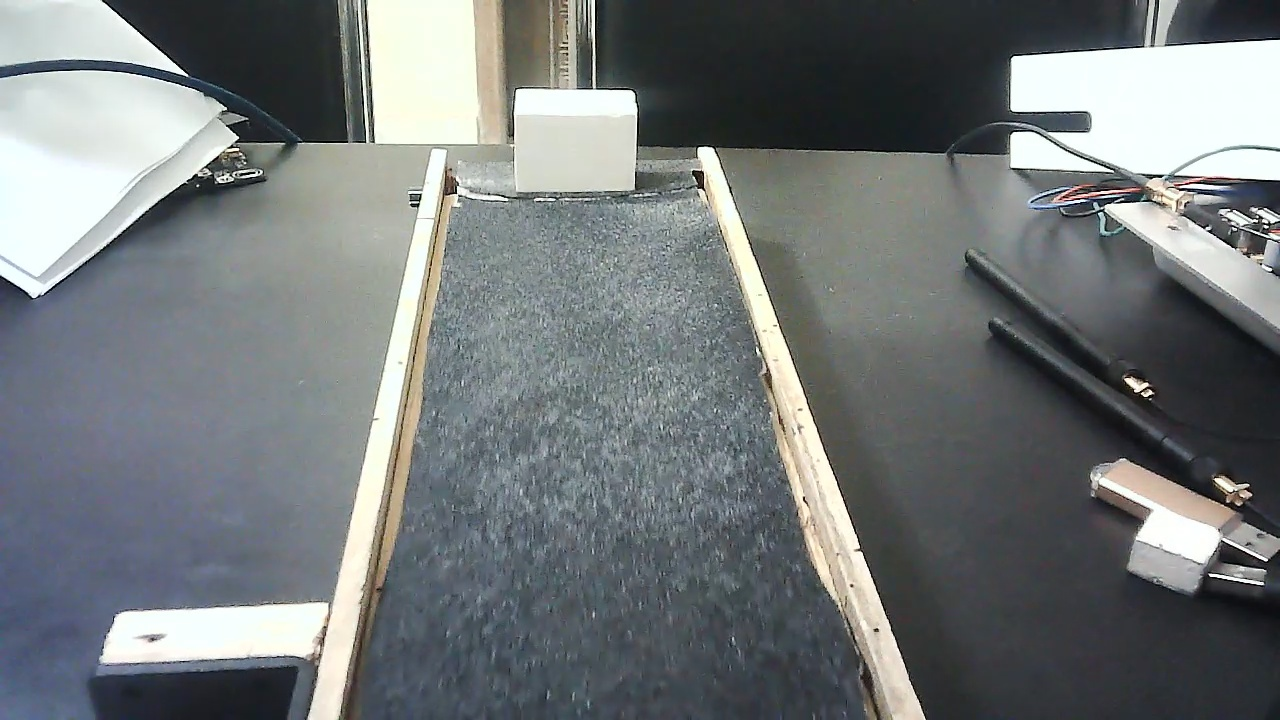BIG: (513, 81, 637, 205)
